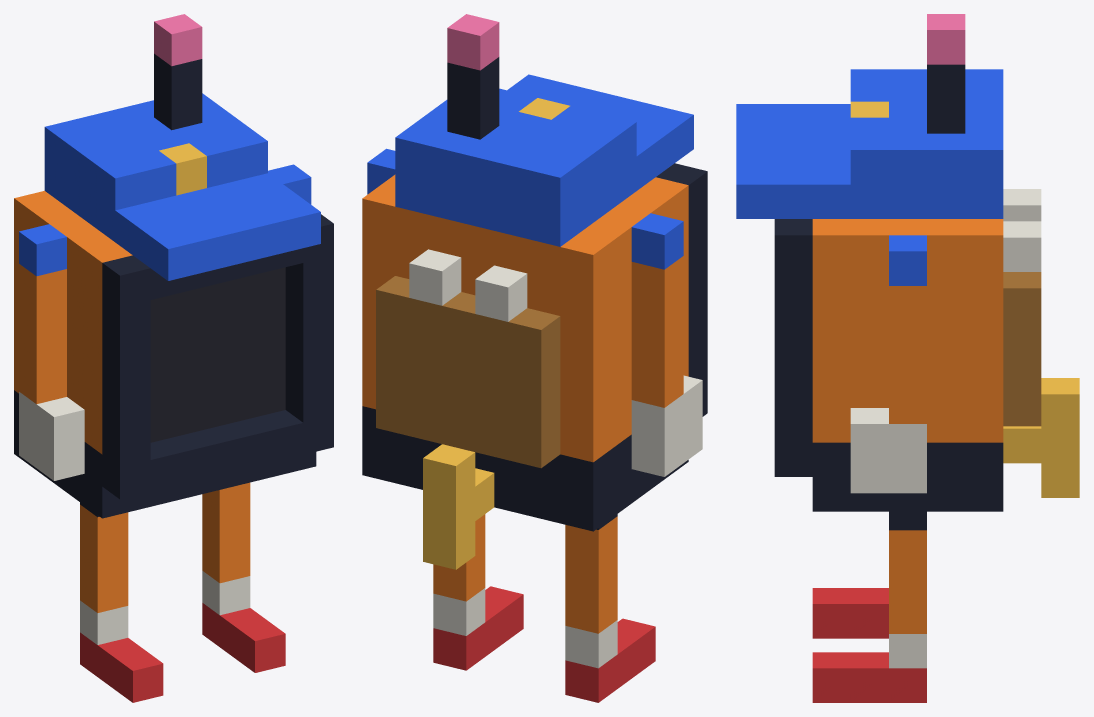
File: dot.glb
3 renders of one model, left to right at view 1: azimuth 30°, elevation 25°; view 2: azimuth 150°, elevation 25°; view 3: azimuth 270°, elevation 25°, orthographic. The views are drawn at different scales.
Visible parts, largest first — view 1: Dot-PAINT-#20243a, Dot-PAINT-#2f6bff, Dot-PAINT-#ff8a2a, Dot-SCREEN-Face#4fd8ff, Dot-PAINT-#f4f1e8, Dot-PAINT-#e0373b, Dot-GLOW-Antenna, Dot-PAINT-#ffc94a; view 2: Dot-PAINT-#ff8a2a, Dot-PAINT-#2f6bff, Dot-PAINT-#b07a3a, Dot-PAINT-#20243a, Dot-PAINT-#f4f1e8, Dot-PAINT-#e0373b, Dot-PAINT-#ffc94a, Dot-GLOW-Antenna; view 3: Dot-PAINT-#ff8a2a, Dot-PAINT-#2f6bff, Dot-PAINT-#20243a, Dot-PAINT-#f4f1e8, Dot-PAINT-#e0373b, Dot-PAINT-#ffc94a, Dot-PAINT-#b07a3a, Dot-GLOW-Antenna.
Part boxes in pixels (left/top/right/bottom): Dot-PAINT-#20243a: left=14, top=53, right=333, bottom=518; Dot-PAINT-#2f6bff: left=19, top=93, right=320, bottom=280; Dot-PAINT-#ff8a2a: left=14, top=191, right=250, bottom=612; Dot-SCREEN-Face#4fd8ff: left=150, top=267, right=285, bottom=442; Dot-PAINT-#f4f1e8: left=19, top=392, right=250, bottom=644; Dot-PAINT-#e0373b: left=80, top=603, right=285, bottom=702; Dot-GLOW-Antenna: left=154, top=14, right=202, bottom=66; Dot-PAINT-#ffc94a: left=159, top=143, right=206, bottom=195; Dot-PAINT-#ff8a2a: left=362, top=174, right=688, bottom=633; Dot-PAINT-#2f6bff: left=367, top=74, right=693, bottom=269; Dot-PAINT-#b07a3a: left=376, top=276, right=560, bottom=468; Dot-PAINT-#20243a: left=362, top=57, right=707, bottom=531; Dot-PAINT-#f4f1e8: left=409, top=249, right=702, bottom=668; Dot-PAINT-#e0373b: left=433, top=586, right=655, bottom=702; Dot-PAINT-#ffc94a: left=423, top=98, right=569, bottom=569; Dot-GLOW-Antenna: left=447, top=14, right=499, bottom=70; Dot-PAINT-#ff8a2a: left=812, top=219, right=1003, bottom=633; Dot-PAINT-#2f6bff: left=736, top=69, right=1003, bottom=285; Dot-PAINT-#20243a: left=774, top=64, right=1003, bottom=530; Dot-PAINT-#f4f1e8: left=850, top=189, right=1041, bottom=668; Dot-PAINT-#e0373b: left=812, top=588, right=926, bottom=702; Dot-PAINT-#ffc94a: left=850, top=101, right=1079, bottom=497; Dot-PAINT-#b07a3a: left=1003, top=272, right=1041, bottom=426; Dot-GLOW-Antenna: left=927, top=14, right=965, bottom=64.
Size of the model in its own units: 18 by 38 by 18.
